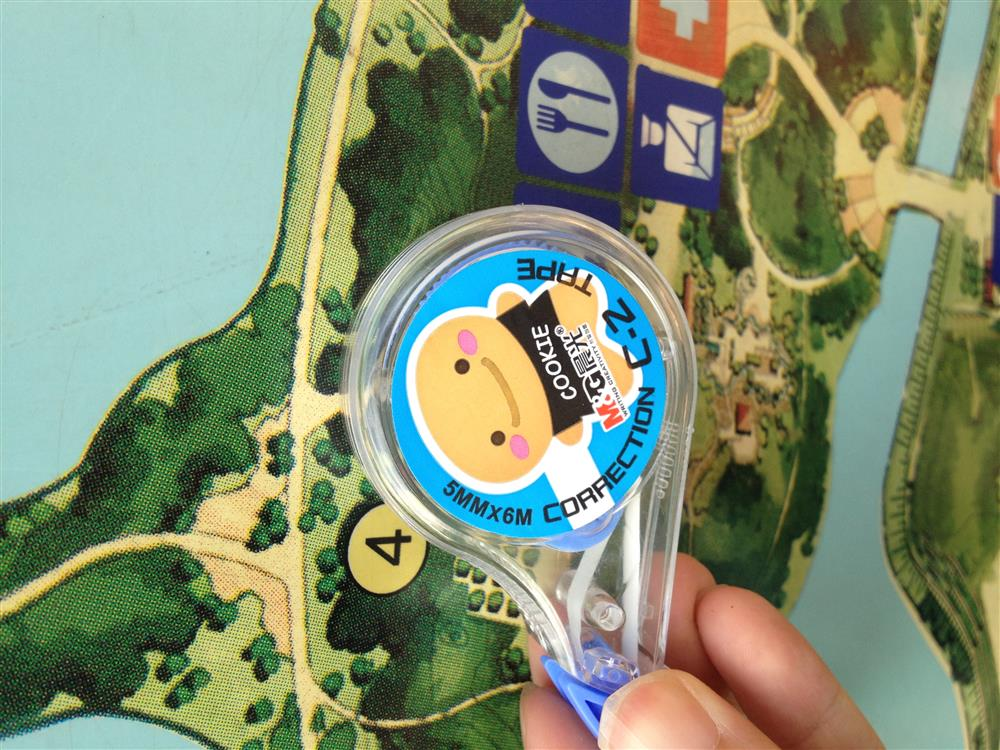correction_tape: (350, 201, 701, 684)
